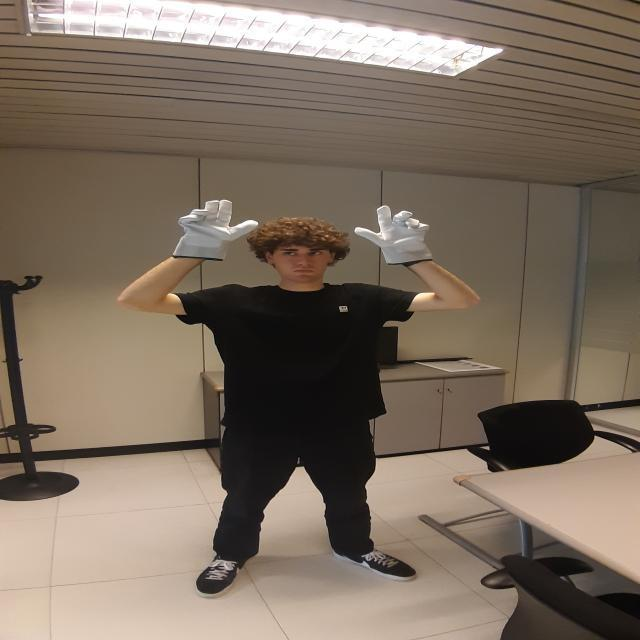gloved_hand: (166, 199, 259, 261), (347, 201, 431, 268)
